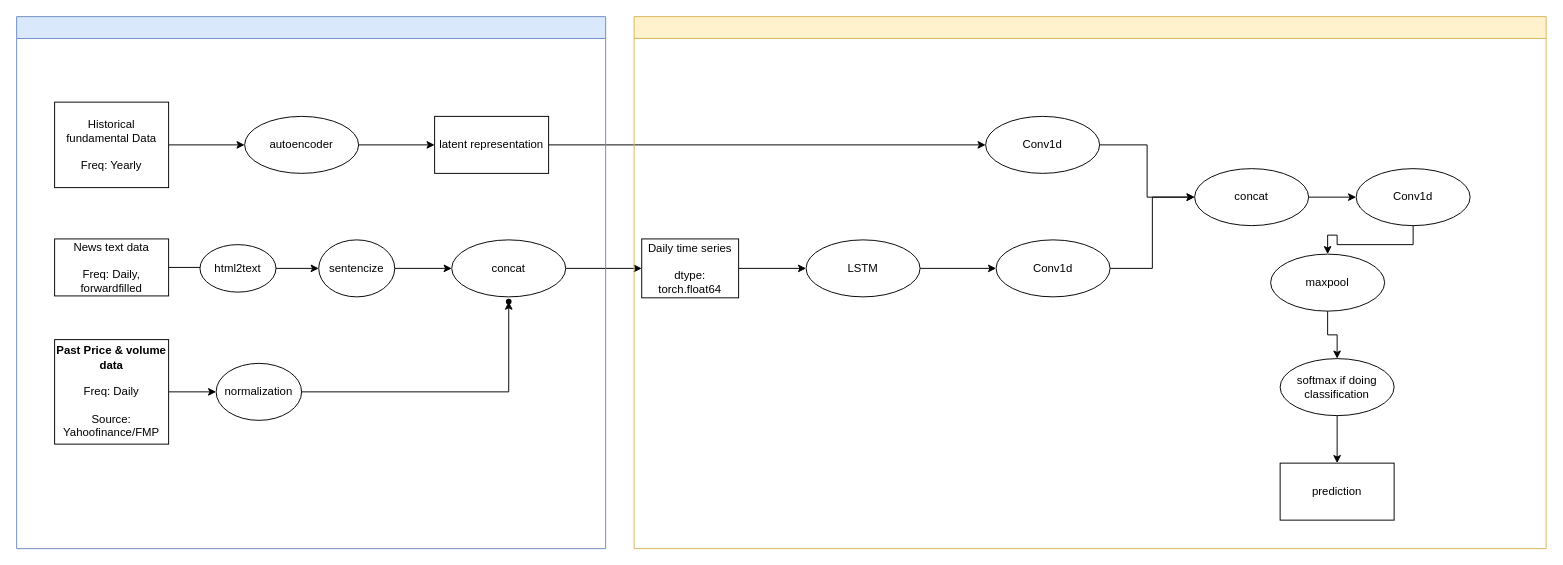
The diagram is 1563 pixels wide and 565 high, and some of its shapes have lost their labels. The shapes that lost their labels are listed below. From the top down, each one's centre as x and y in pixels, then its label:
the point at 311,282: Dataset creation
the point at 1089,282: Model
